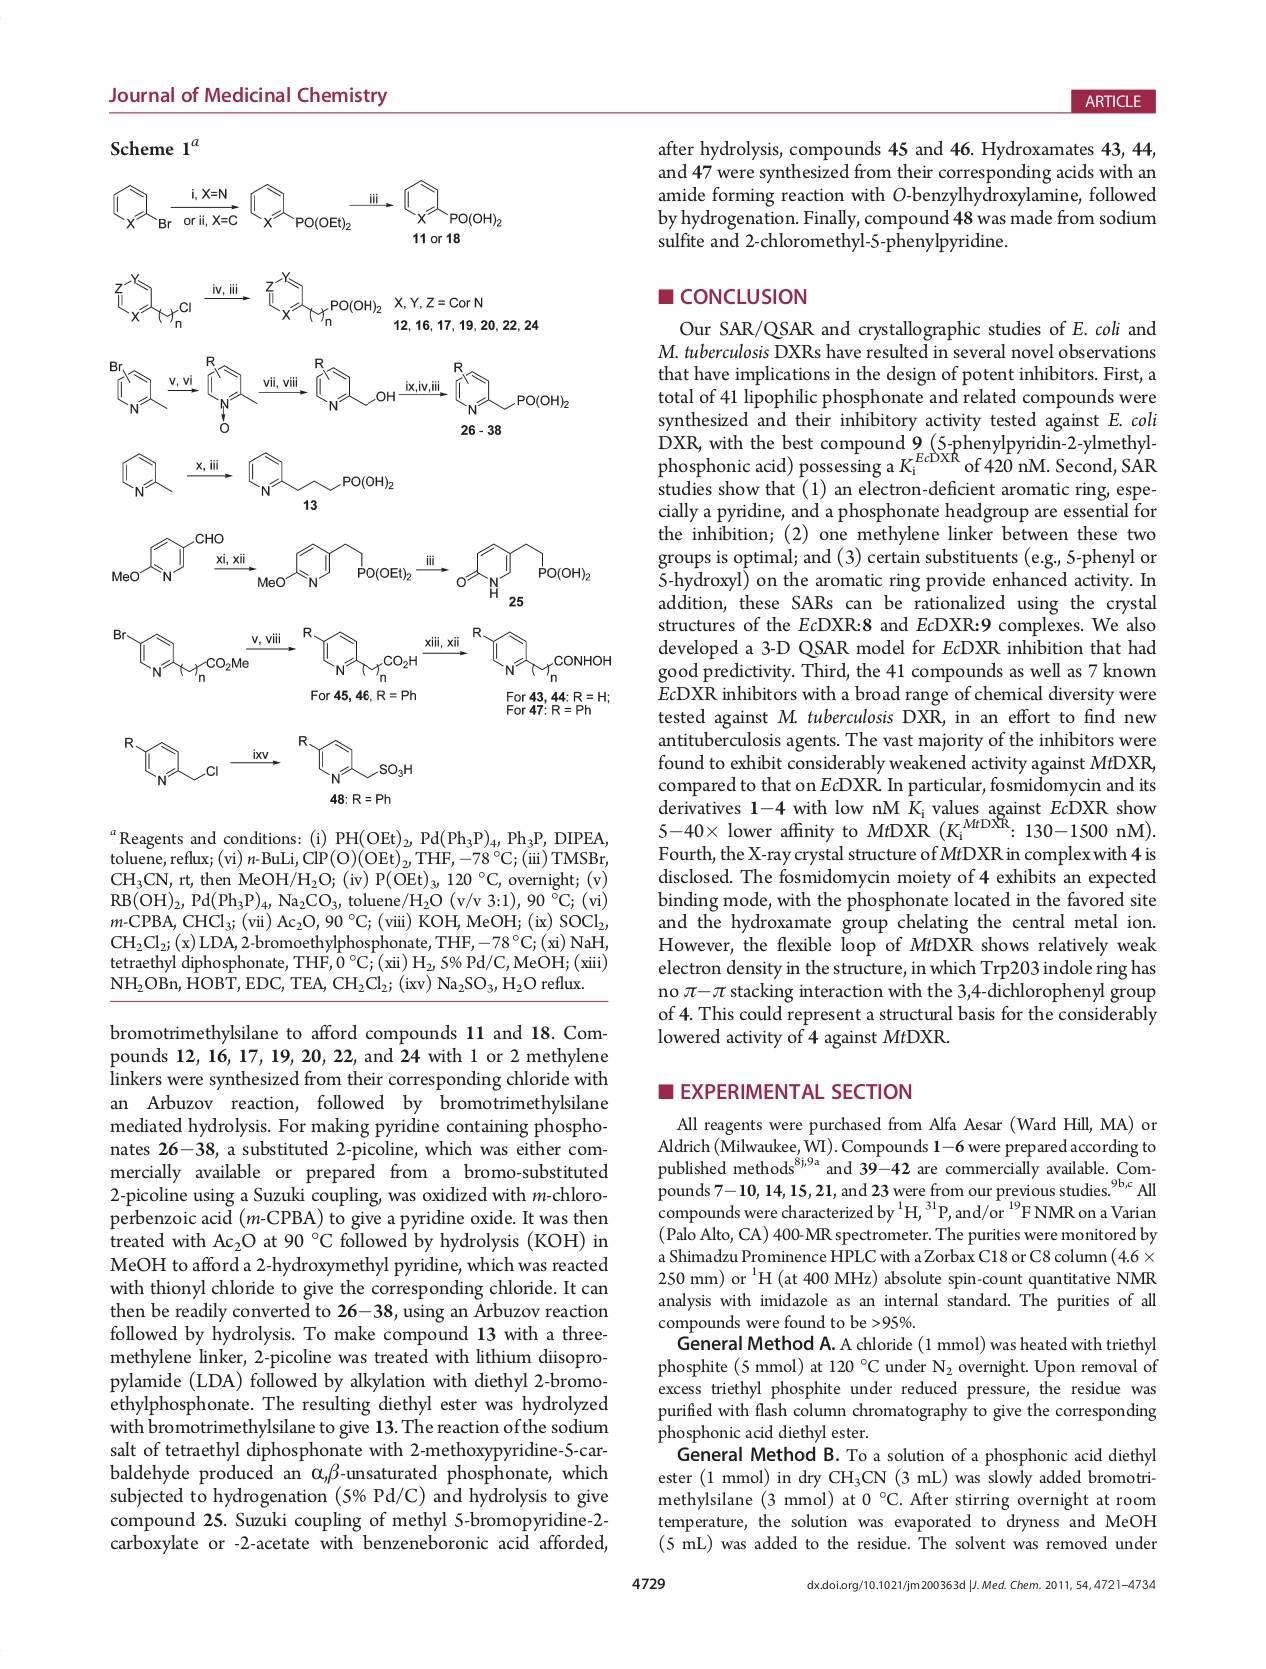exist_molecular: (106, 620, 251, 684), (471, 622, 616, 685), (453, 539, 592, 598), (257, 540, 414, 590), (301, 621, 418, 684), (245, 449, 394, 497), (261, 269, 382, 326), (449, 360, 570, 418), (108, 532, 227, 585), (297, 731, 414, 785), (398, 177, 505, 231), (118, 731, 221, 786), (247, 184, 351, 234), (311, 352, 396, 414), (113, 270, 193, 330), (202, 350, 258, 434), (105, 355, 168, 414), (106, 181, 172, 230), (117, 448, 174, 501)
